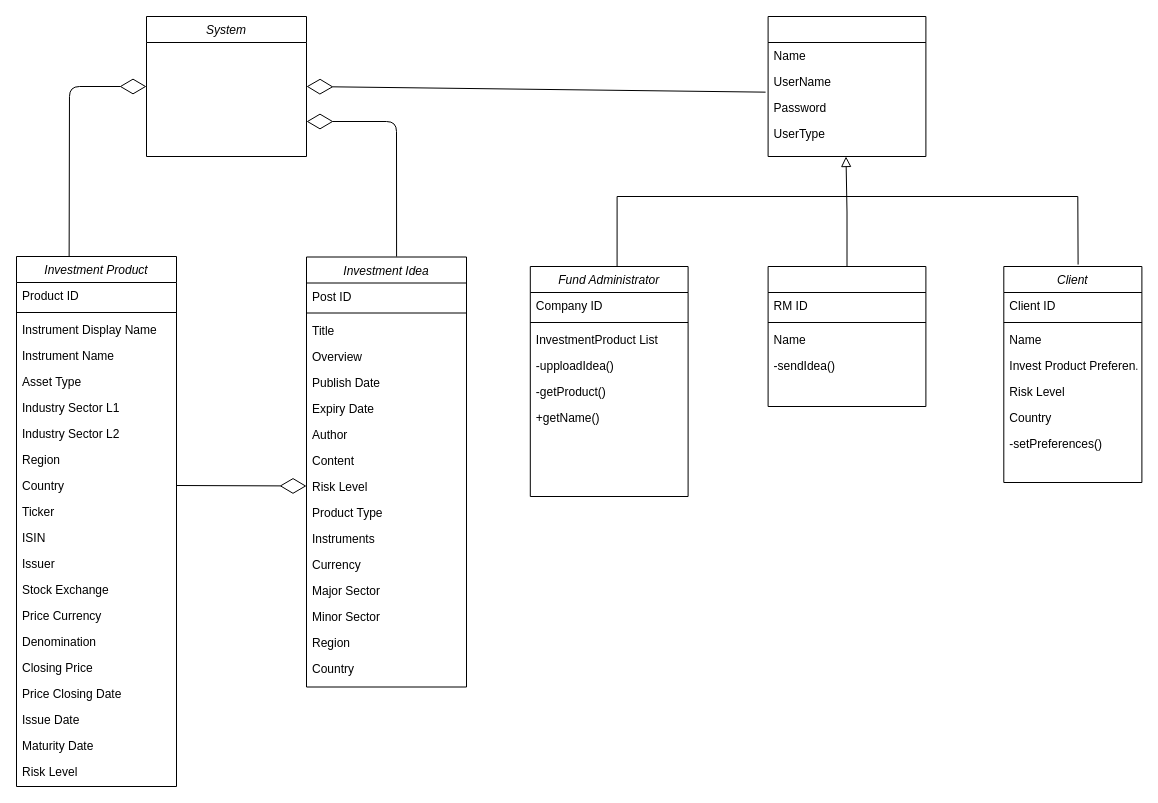
This 1158x803 diagram has some shape labels left out. Each missing label, with the box of its shape:
Application User: (767, 16, 926, 156)
Relationship Manager: (767, 266, 926, 406)
